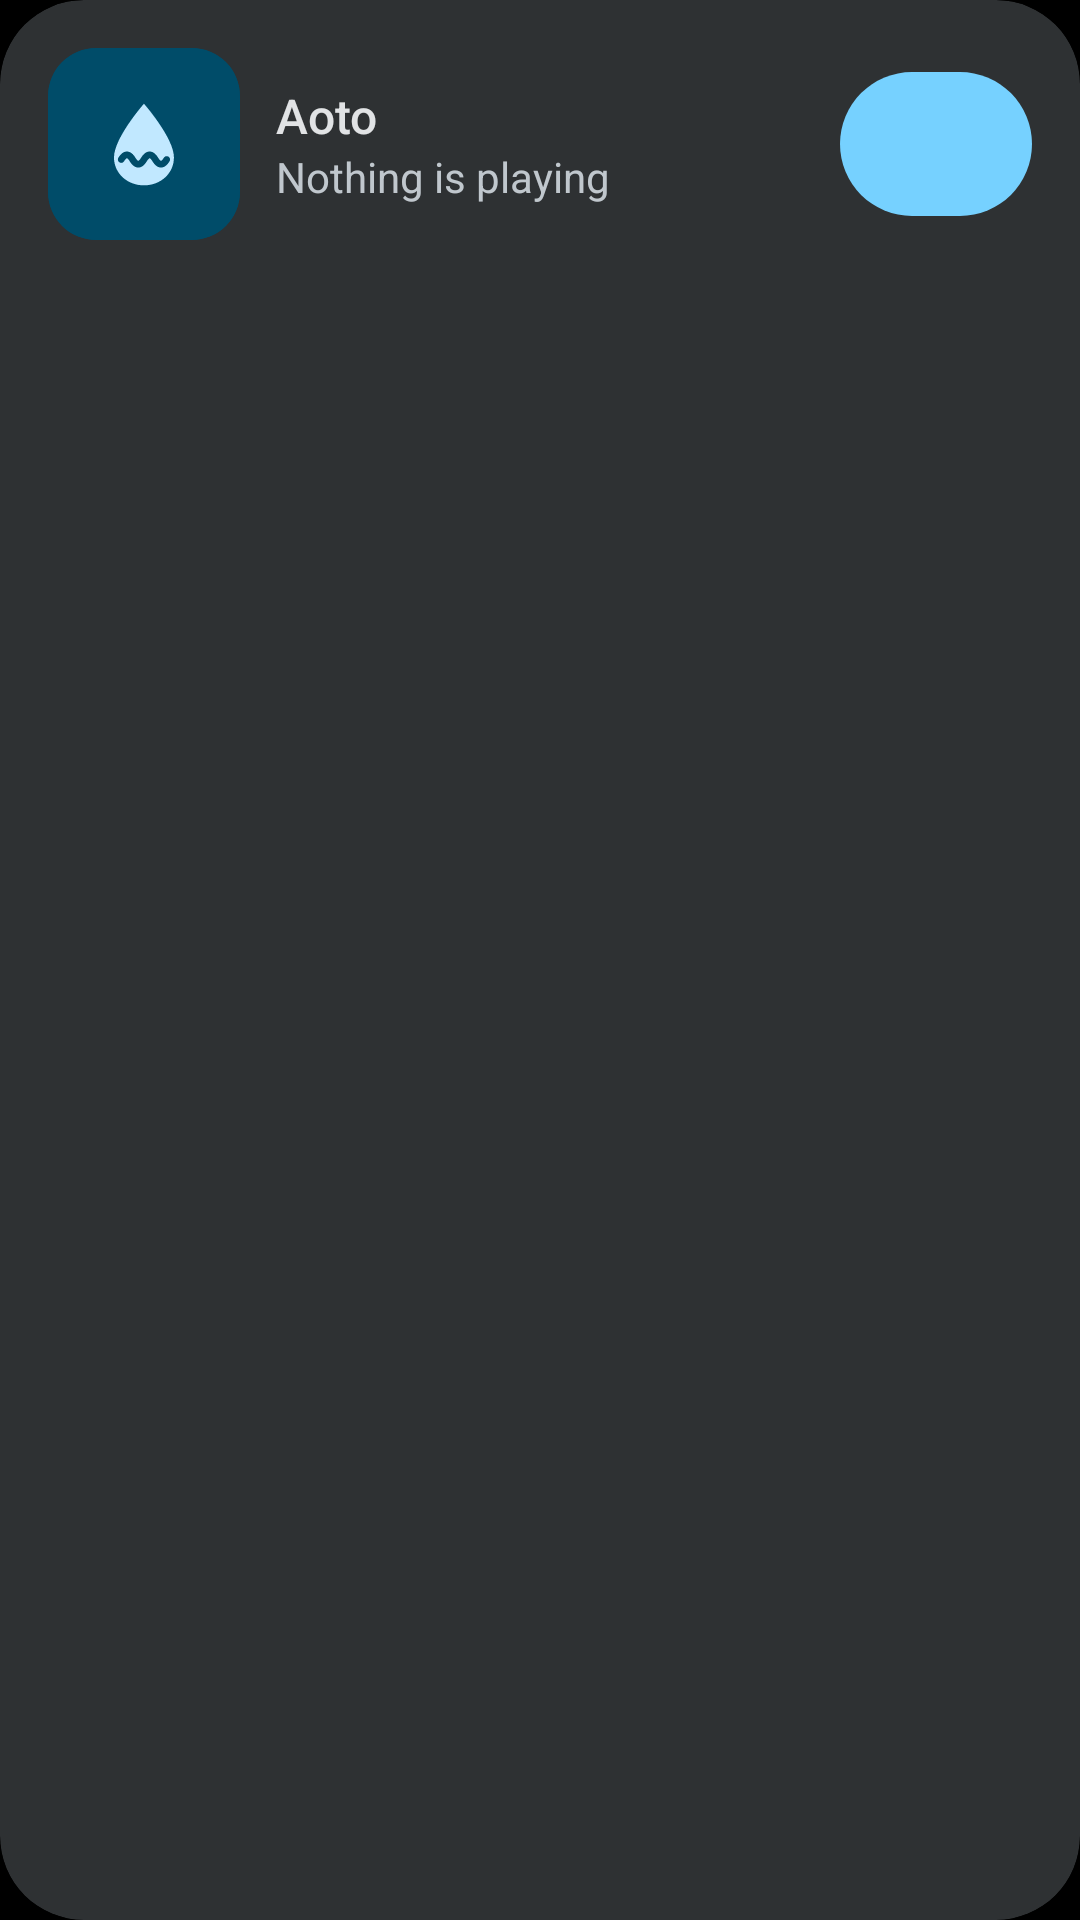

Icon click points for this 1080px×1920px phone screenshot, format (x,y):
widget art empty: (144,144)
